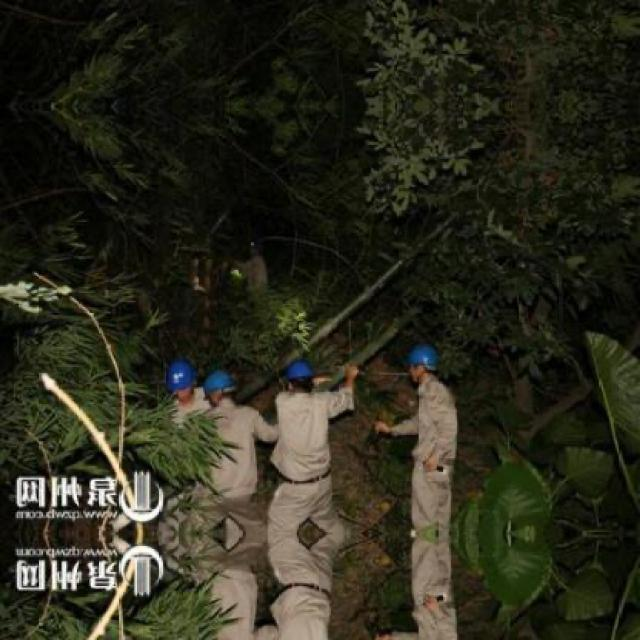helmet: (164, 358, 202, 407), (403, 342, 442, 384), (283, 359, 319, 396), (202, 370, 236, 409)
